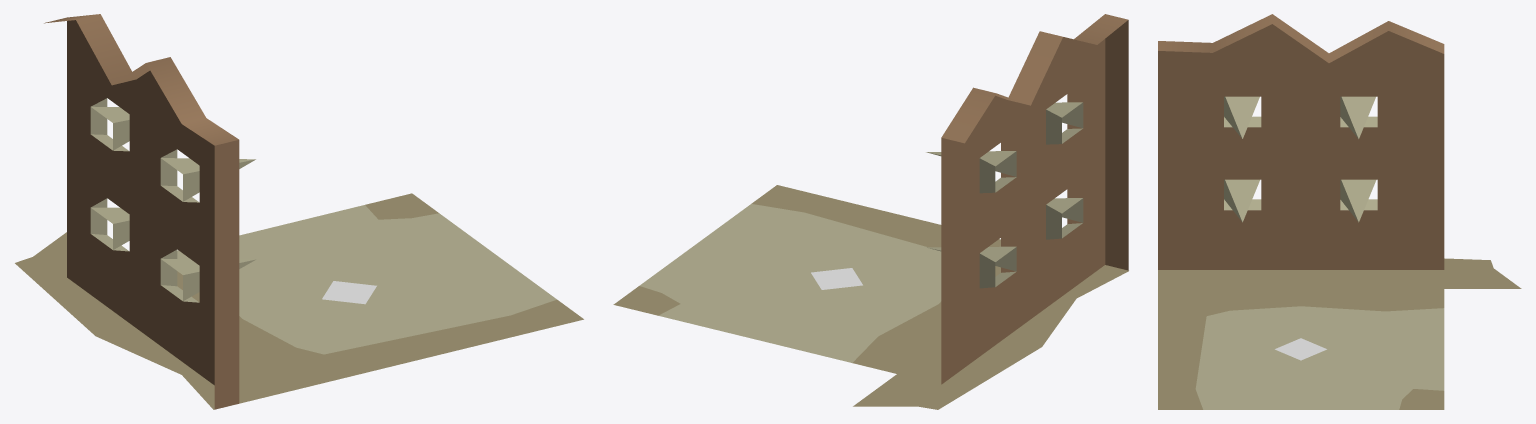
Rendered from Left Death Instant.fbx.
3 views of the same model, side by side, from view 1: azimuth 30°, elevation 25°; view 2: azimuth 150°, elevation 25°; view 3: azimuth 270°, elevation 25° (orthographic). The views are drawn at different scales.
Visible parts, largest first — view 1: polySurface7636; view 2: polySurface7636; view 3: polySurface7636.
Part boxes in pixels (bbox=[...]): polySurface7636: bbox=[15, 14, 583, 409]; polySurface7636: bbox=[613, 14, 1128, 409]; polySurface7636: bbox=[1158, 14, 1521, 409].
Size of the model in its own units: 129 by 94.84 by 127.
